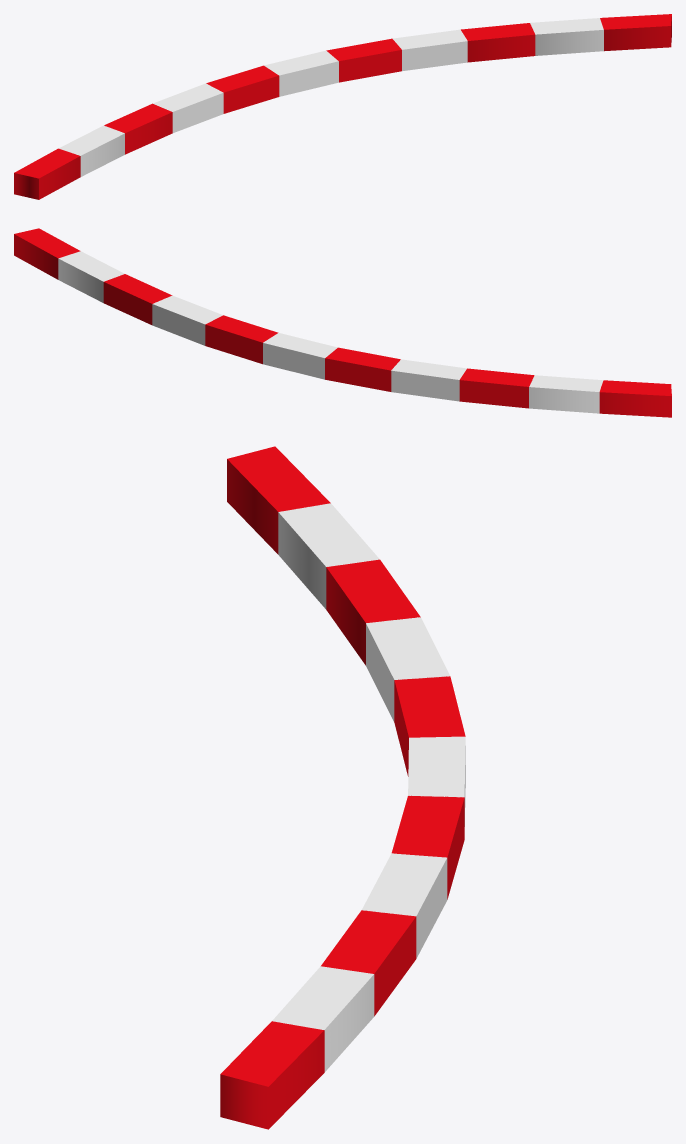
The model's file is LongBarrier.fbx.
The picture shows the model from 3 angles, top to bottom: view 1: azimuth 30°, elevation 25°; view 2: azimuth 150°, elevation 25°; view 3: azimuth 270°, elevation 25°; orthographic projection. The views are drawn at different scales.
Visible parts, largest first — view 1: Cube.009, Cube.008, Cube.010, Cube, Cube.007, Cube.006, Cube.005, Cube.004, Cube.003, Cube.002, Cube.001; view 2: Cube, Cube.001, Cube.002, Cube.003, Cube.004, Cube.005, Cube.006, Cube.007, Cube.008, Cube.009, Cube.010; view 3: Cube.010, Cube, Cube.009, Cube.001, Cube.008, Cube.002, Cube.007, Cube.003, Cube.006, Cube.004, Cube.005.
Boxes of the visible parts, x1=… form: Cube.009: x1=530, y1=18, x2=603, y2=55; Cube.008: x1=461, y1=23, x2=535, y2=62; Cube.010: x1=600, y1=14, x2=671, y2=51; Cube: x1=14, y1=148, x2=80, y2=199; Cube.007: x1=393, y1=29, x2=467, y2=71; Cube.006: x1=326, y1=38, x2=401, y2=82; Cube.005: x1=264, y1=50, x2=338, y2=96; Cube.004: x1=206, y1=65, x2=279, y2=113; Cube.003: x1=153, y1=83, x2=223, y2=132; Cube.002: x1=104, y1=103, x2=172, y2=154; Cube.001: x1=58, y1=125, x2=124, y2=176; Cube: x1=599, y1=380, x2=671, y2=417; Cube.001: x1=529, y1=375, x2=603, y2=413; Cube.002: x1=459, y1=368, x2=534, y2=408; Cube.003: x1=391, y1=359, x2=466, y2=401; Cube.004: x1=325, y1=347, x2=400, y2=391; Cube.005: x1=263, y1=333, x2=337, y2=379; Cube.006: x1=205, y1=315, x2=278, y2=364; Cube.007: x1=152, y1=295, x2=222, y2=345; Cube.008: x1=103, y1=274, x2=172, y2=324; Cube.009: x1=58, y1=251, x2=124, y2=302; Cube.010: x1=14, y1=228, x2=80, y2=279; Cube.010: x1=220, y1=1021, x2=324, y2=1129; Cube: x1=227, y1=446, x2=330, y2=554; Cube.009: x1=272, y1=966, x2=374, y2=1071; Cube.001: x1=278, y1=503, x2=379, y2=609; Cube.008: x1=321, y1=910, x2=416, y2=1016; Cube.002: x1=326, y1=559, x2=420, y2=665; Cube.007: x1=362, y1=853, x2=447, y2=958; Cube.003: x1=366, y1=617, x2=449, y2=721; Cube.006: x1=391, y1=795, x2=464, y2=899; Cube.004: x1=394, y1=676, x2=465, y2=776; Cube.005: x1=408, y1=736, x2=465, y2=826.
Bounding box in the file's own units: 432 × 13.44 × 69.86.
